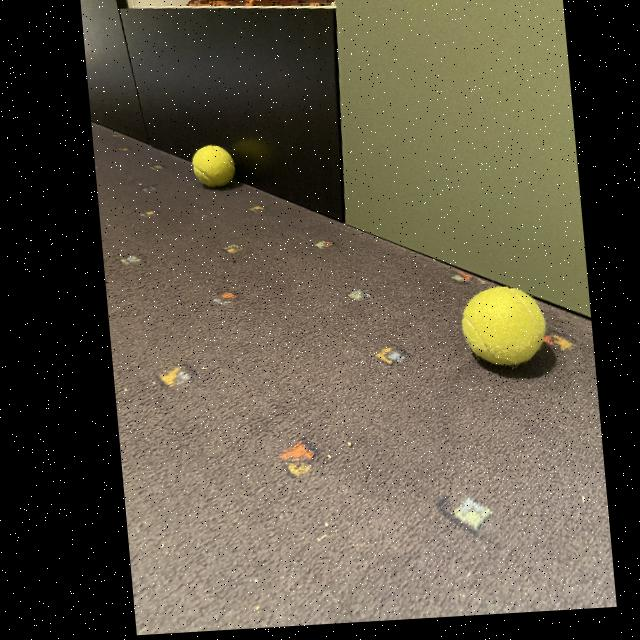Tennisball: (462, 286, 545, 366), (192, 145, 235, 188)
